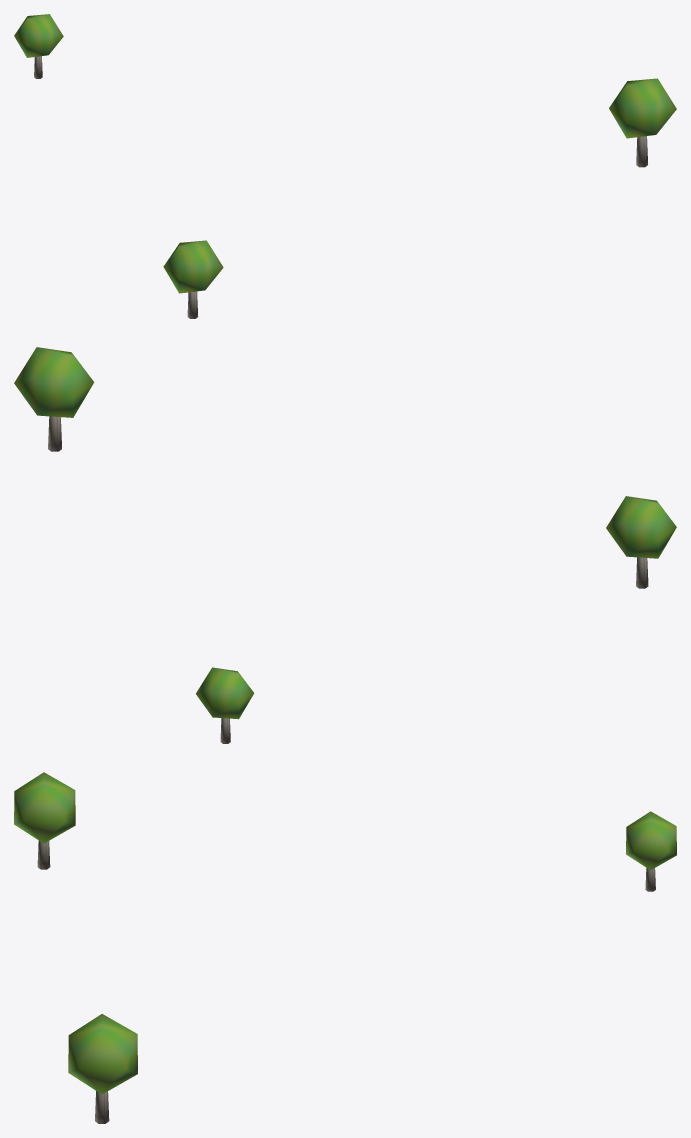
Rendered from ISL-M_LOD1_Trees.fbx.
3 renders of one model, top to bottom at view 1: azimuth 30°, elevation 25°; view 2: azimuth 150°, elevation 25°; view 3: azimuth 270°, elevation 25°, orthographic. The views are drawn at different scales.
Visible parts, largest first — view 1: ISL-M_LOD1_Trees; view 2: ISL-M_LOD1_Trees; view 3: ISL-M_LOD1_Trees.
Boxes of the visible parts, x1,y1,x2,y2 form: ISL-M_LOD1_Trees: (14, 14, 676, 318); ISL-M_LOD1_Trees: (14, 347, 676, 743); ISL-M_LOD1_Trees: (14, 772, 676, 1123).
Bounding box in the file's own units: 31.2 × 28.77 × 5.8.
